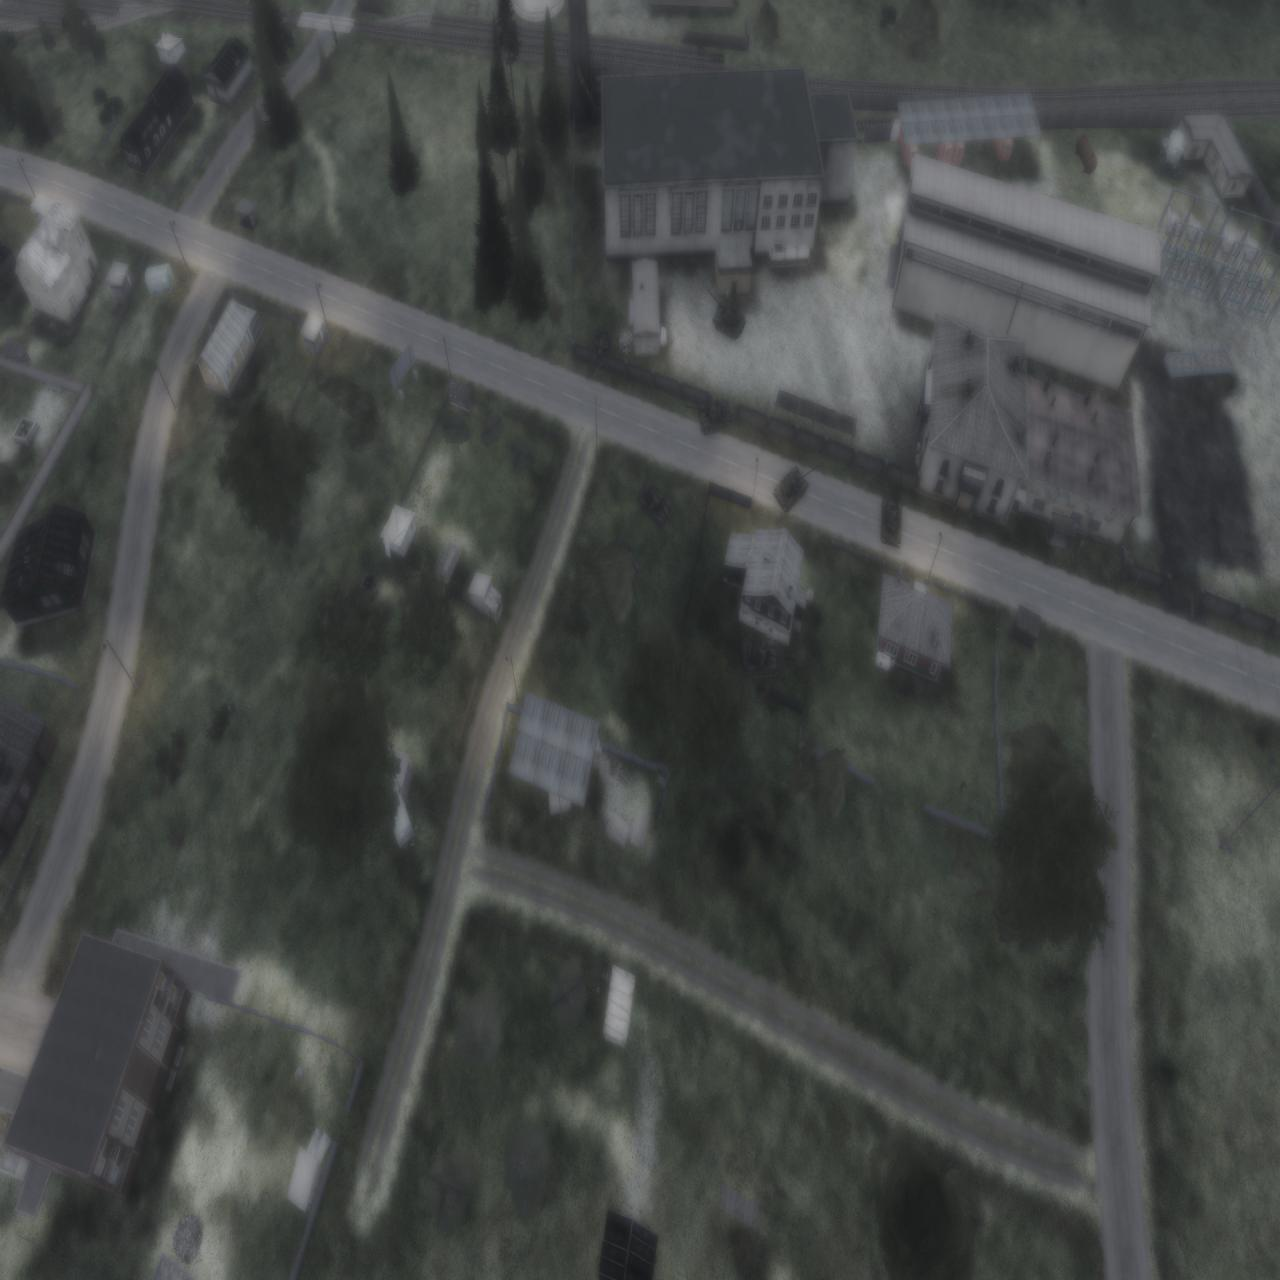MIL_Veh: (682, 393, 736, 440), (704, 282, 747, 341), (772, 461, 818, 515), (633, 479, 678, 535), (738, 635, 792, 679), (878, 472, 904, 549)
